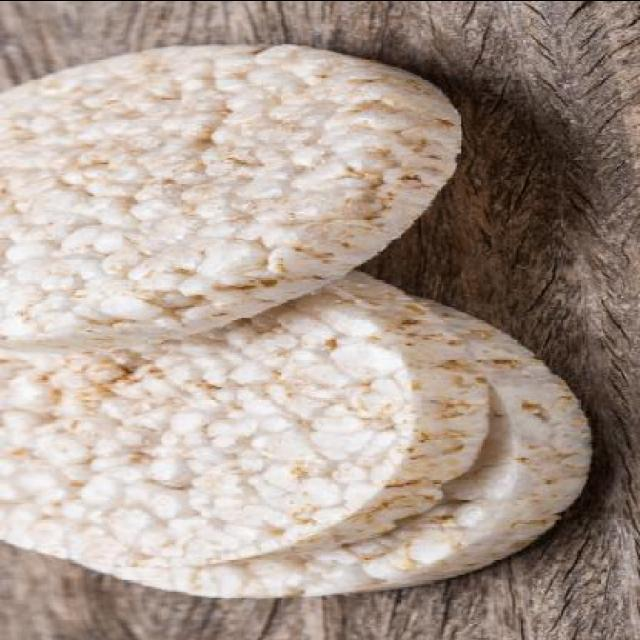Gallette di riso packaged: (2, 33, 468, 356), (3, 261, 477, 573)
